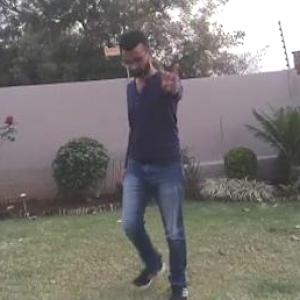takeoff-hand: (152, 50, 189, 92)
